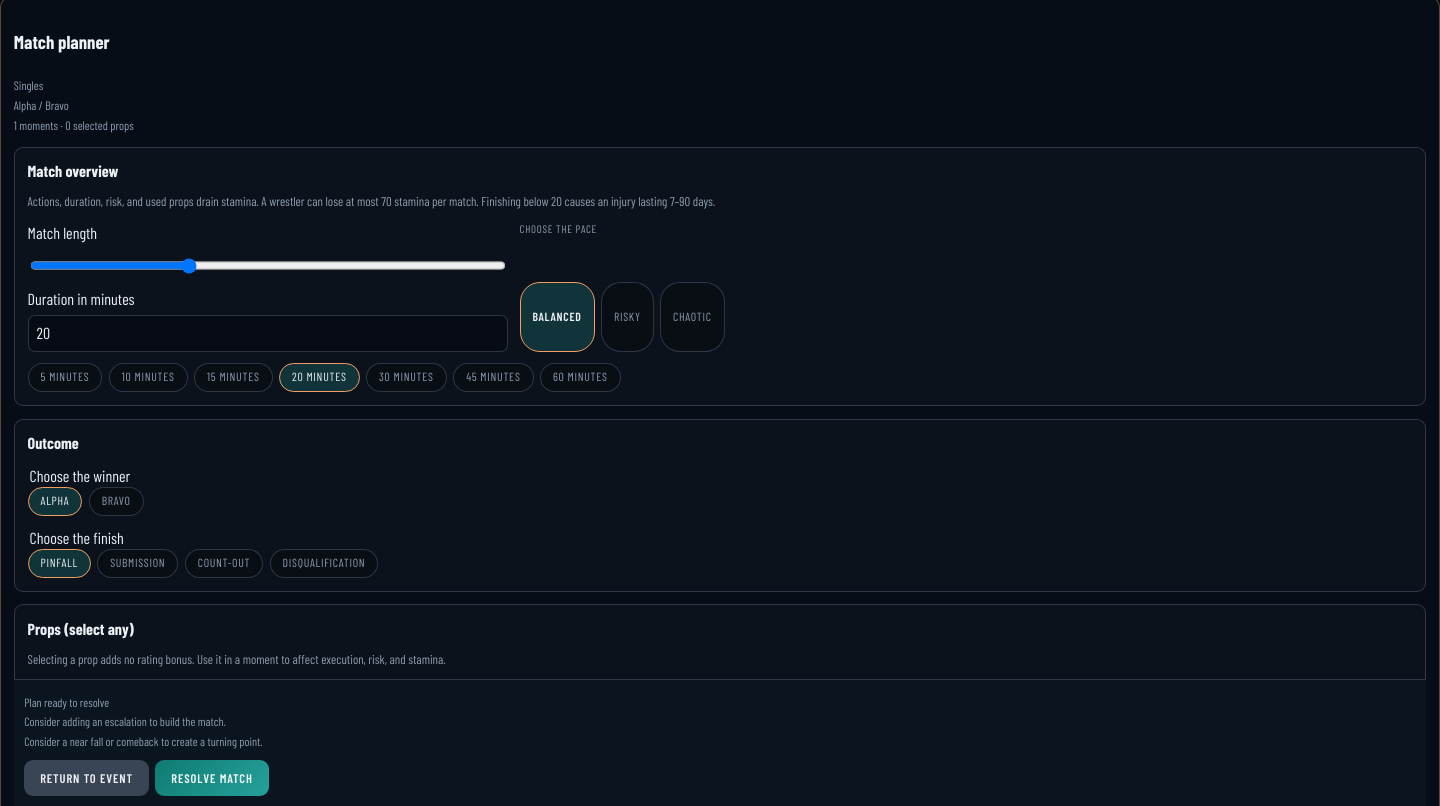
it: match timeline planner › clamps times without deleting moments and announces the adjustment
Click the button "10 minutes".
click(148, 377)  # box [109,363,188,392]
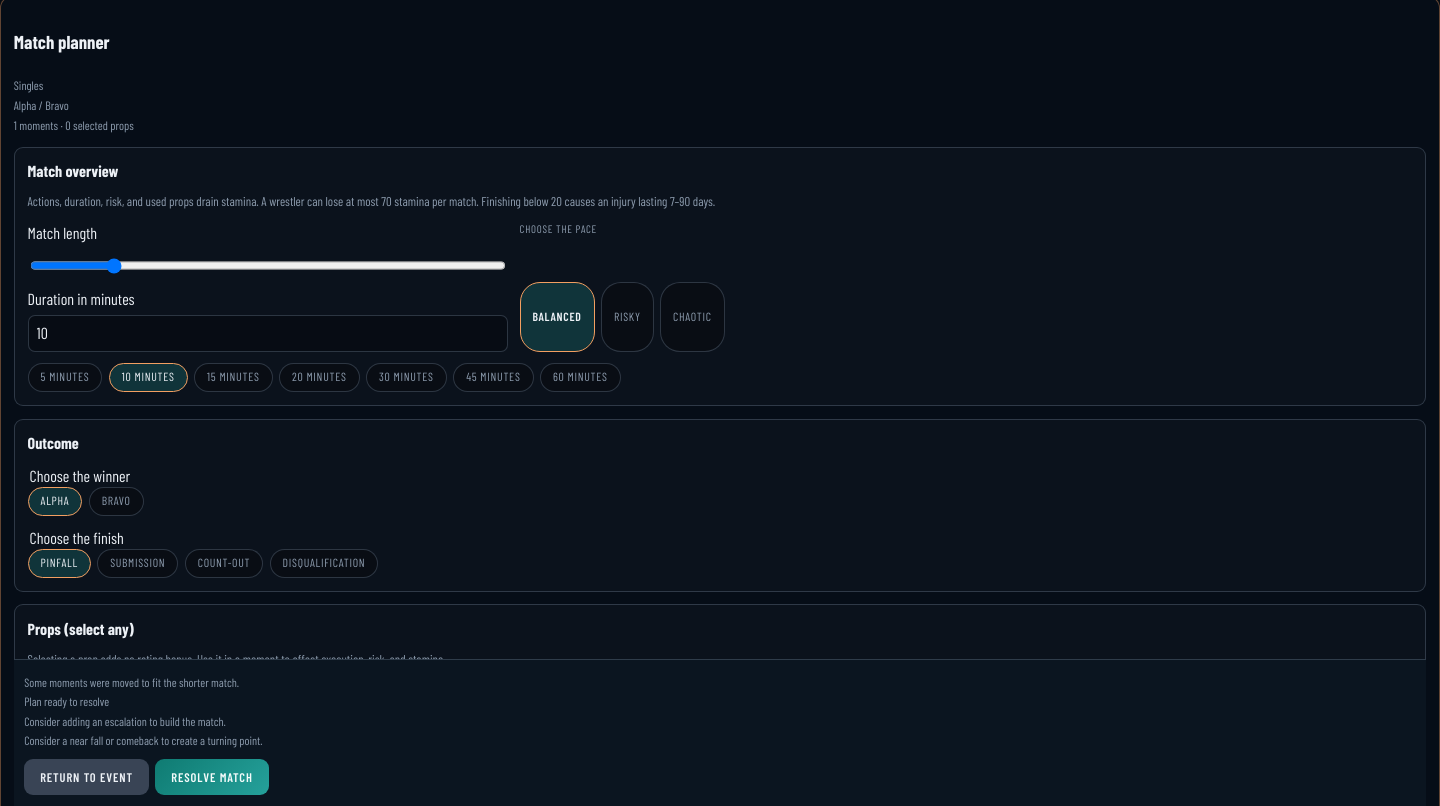
Expected: the message shows "moved", [24,675,239,689]
Set the slider to "5" at (69, 266), box [30,250,506,281]
(page scrolled)
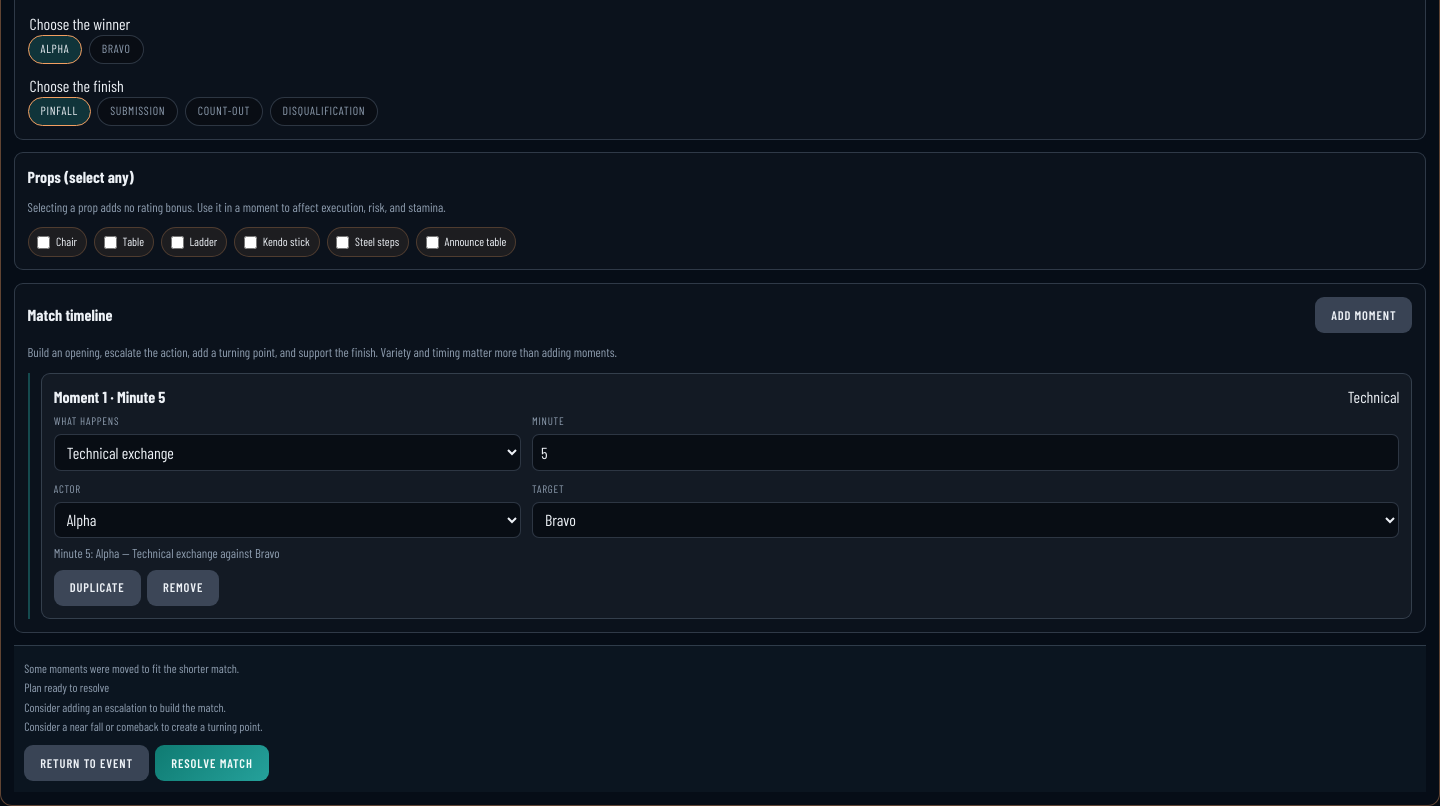
Expected: the number field labelled "Minute" holds "5", [532,434,1399,471]
